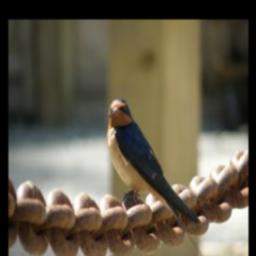Swallow: (105, 97, 214, 256)
